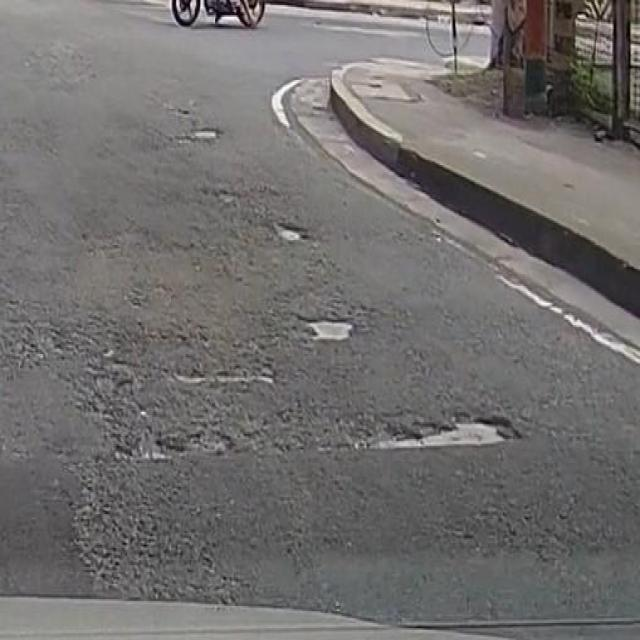Pothole: (378, 411, 516, 455), (304, 316, 365, 344)
